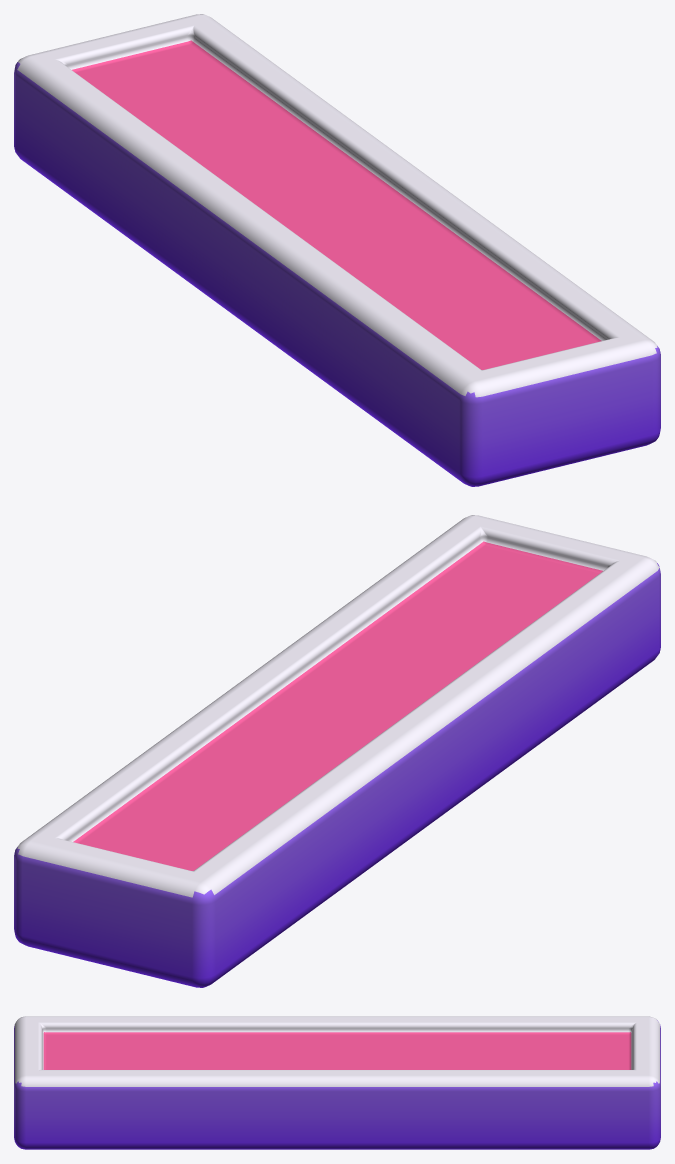
Rendered from platform_2x8.glb.
The picture shows the model from 3 angles, top to bottom: view 1: azimuth 30°, elevation 25°; view 2: azimuth 150°, elevation 25°; view 3: azimuth 270°, elevation 25°; orthographic projection. The views are drawn at different scales.
Parts seen in each view (by area): view 1: platform_2x8; view 2: platform_2x8; view 3: platform_2x8.
Boxes of the visible parts, <box> form: platform_2x8: <box>14,14,660,486</box>; platform_2x8: <box>14,515,660,987</box>; platform_2x8: <box>14,1016,660,1149</box>.
Bounding box in the file's own units: 2 × 1 × 8.
1 material, 1 textured.
